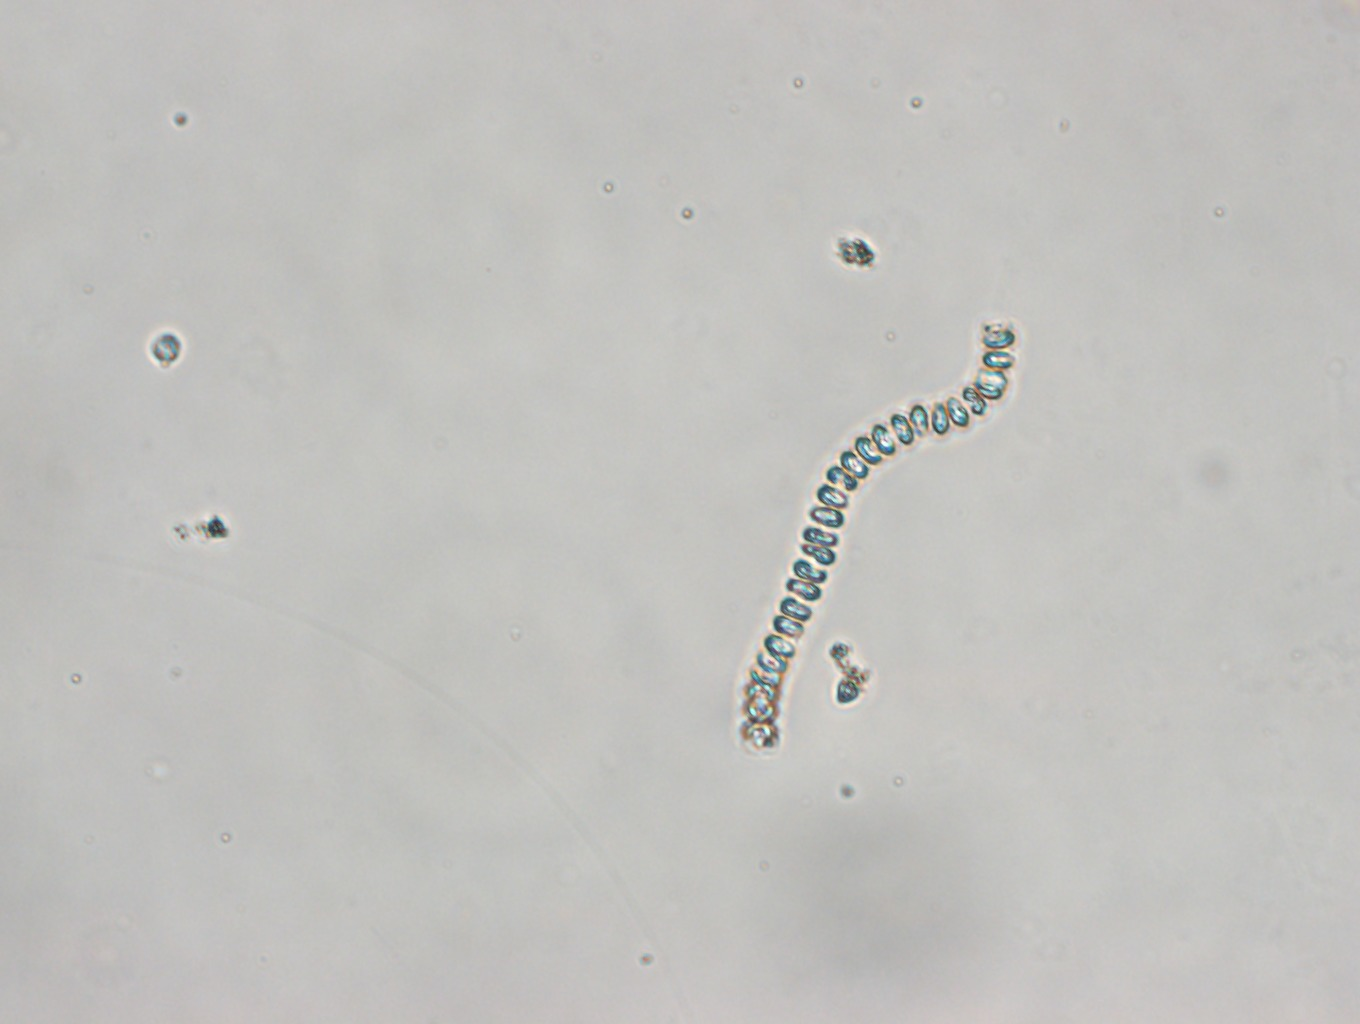skeletonema: (735, 315, 1018, 754)
